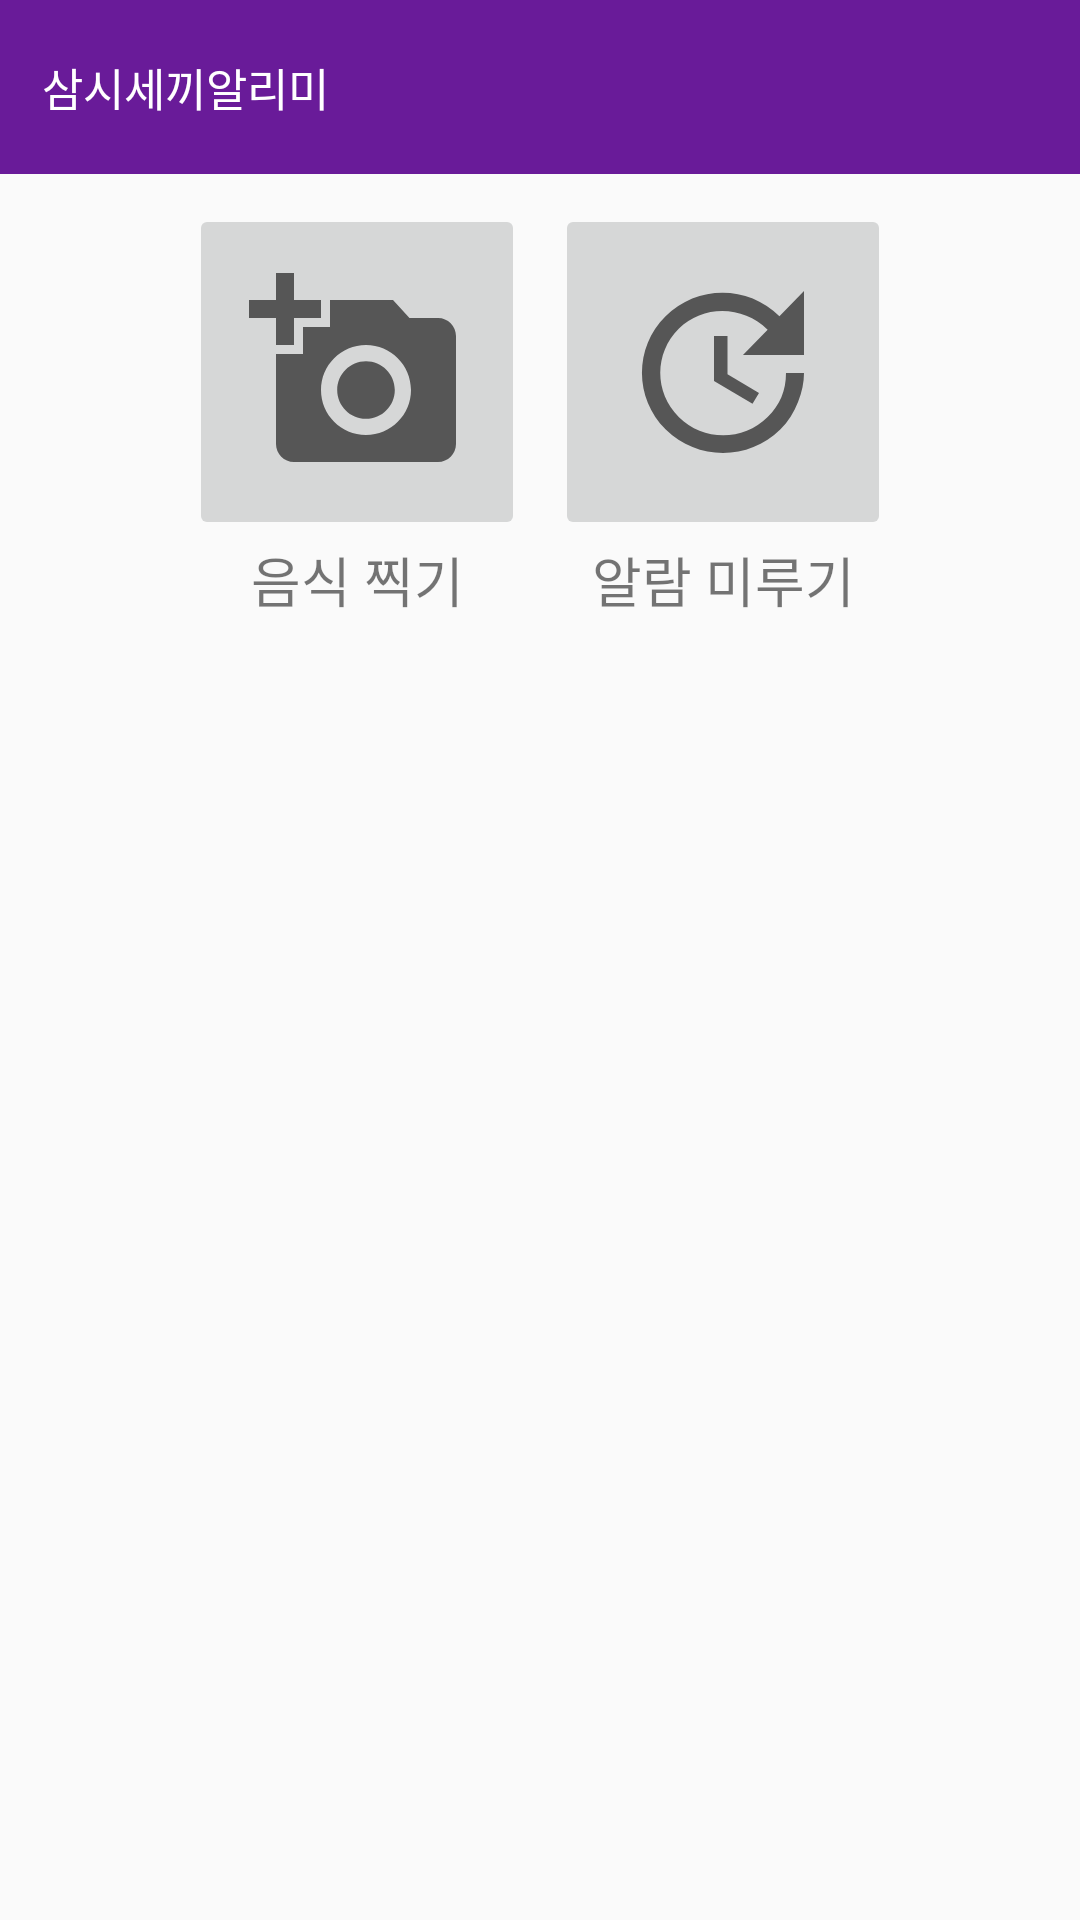

Where icons sit on this 1080px×1920px app screen, as (x1, y1, x2, y2):
add photo: (201, 222, 513, 522)
update: (567, 222, 879, 522)
